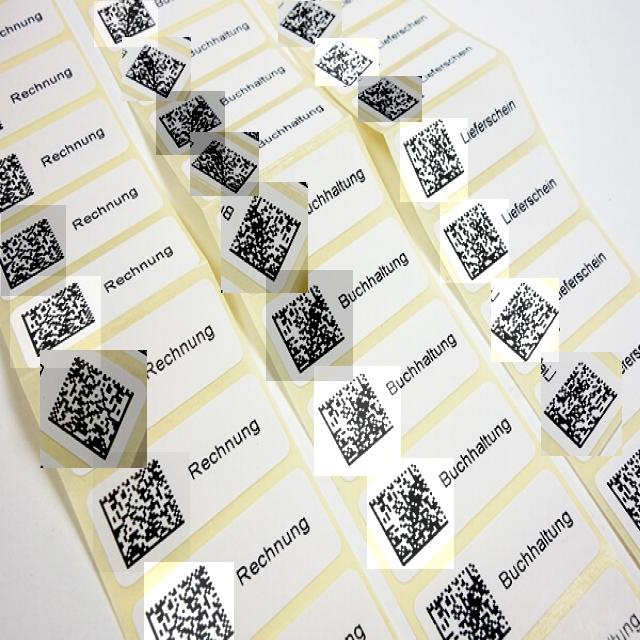DataMatrix: (40, 350, 147, 468), (93, 452, 190, 572), (367, 458, 454, 569), (266, 270, 353, 381), (221, 182, 308, 293), (314, 366, 401, 476), (541, 352, 622, 456), (10, 276, 101, 368), (144, 562, 234, 640), (424, 562, 513, 640), (1, 205, 66, 296), (440, 199, 509, 283), (400, 118, 468, 202), (491, 278, 559, 362), (190, 132, 259, 196), (156, 91, 225, 155), (122, 37, 191, 101), (316, 38, 380, 86), (94, 1, 158, 47), (278, 1, 342, 47), (358, 76, 422, 122)
